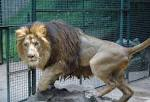lion: (14, 14, 135, 102)
